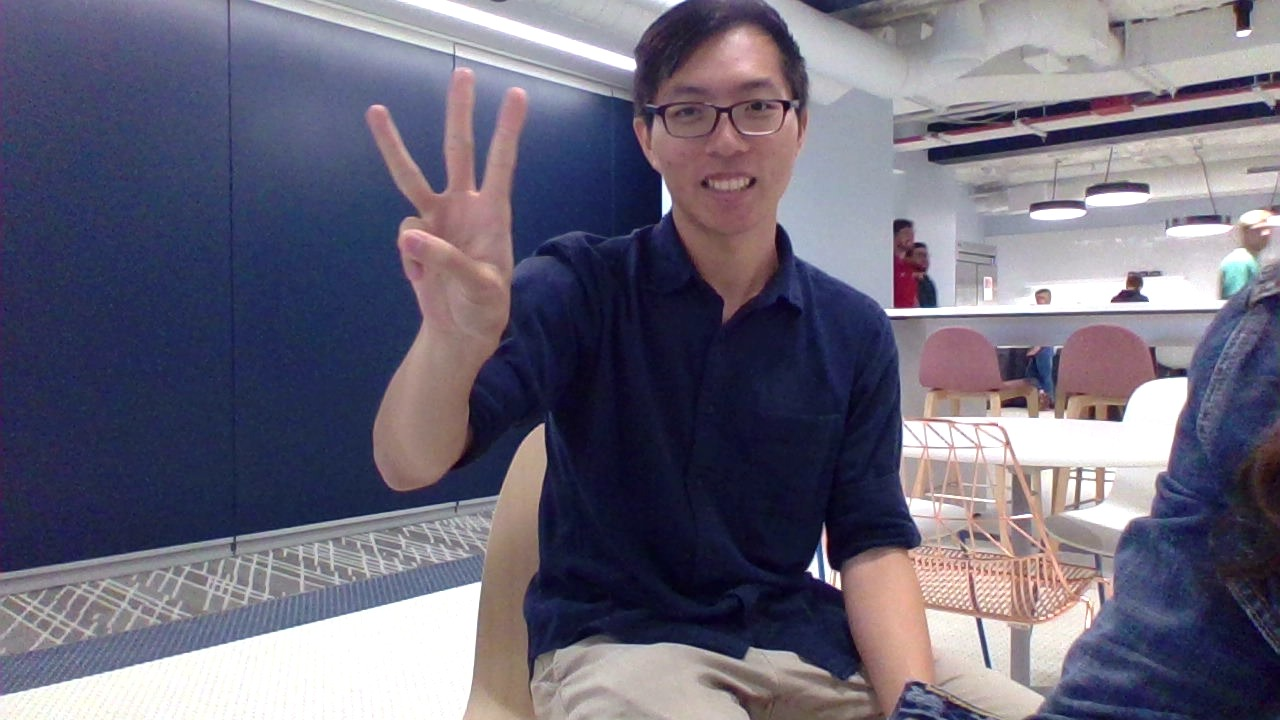w: (362, 55, 542, 376)
